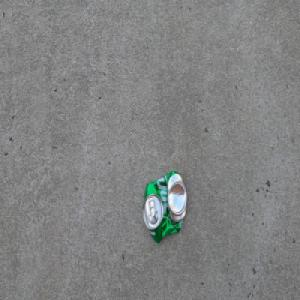SodaCan: (141, 169, 187, 243)
